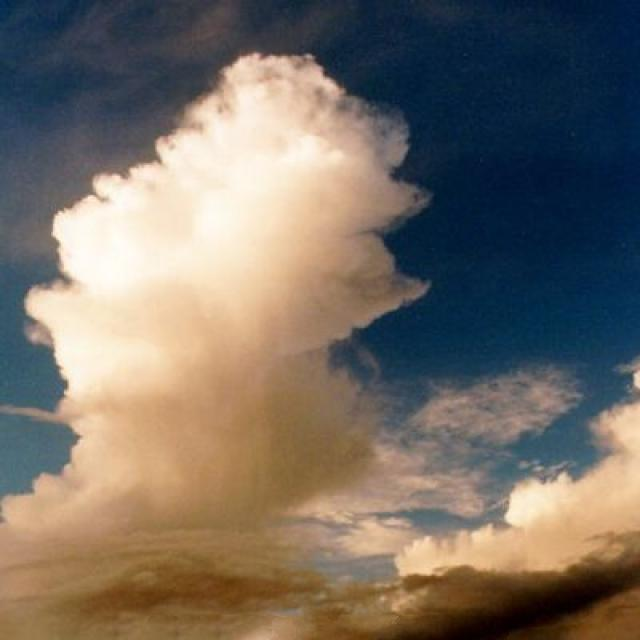Cb: (1, 40, 444, 574)
